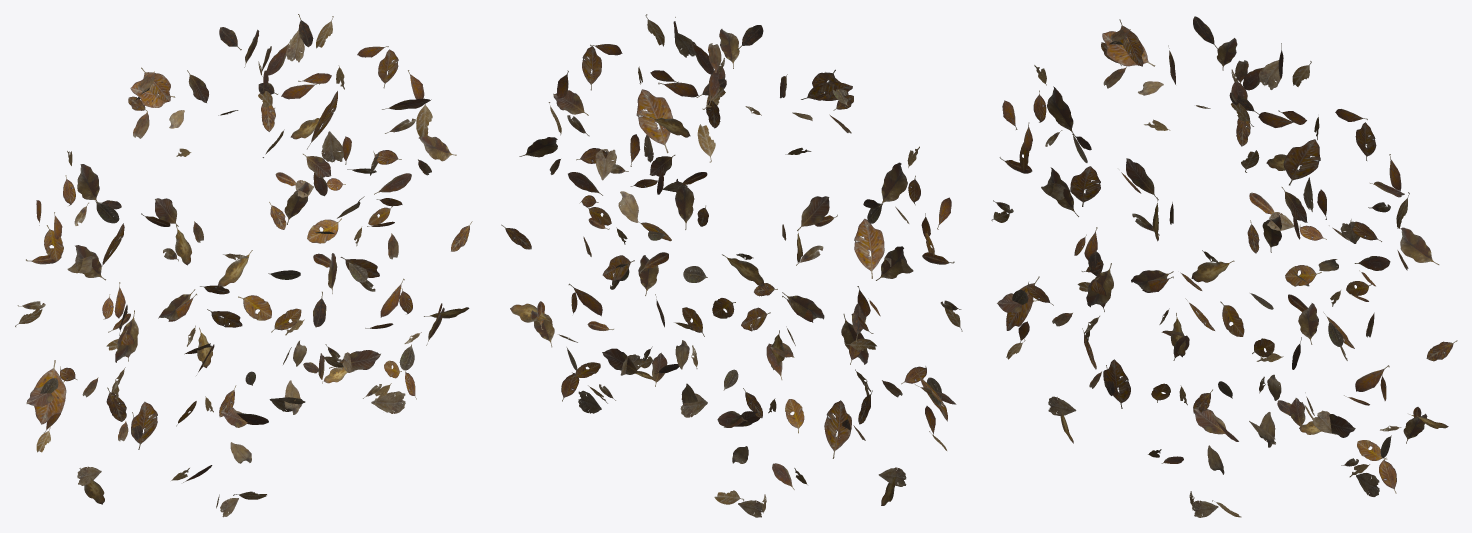
The model's file is Leaf_Pile_01_Var3_LOD2.fbx.
3 views of the same model, side by side, from view 1: azimuth 30°, elevation 25°; view 2: azimuth 150°, elevation 25°; view 3: azimuth 330°, elevation 25° (orthographic).
Parts seen in each view (by area): view 1: Var3_LOD2; view 2: Var3_LOD2; view 3: Var3_LOD2.
Part boxes in pixels (x1,y1,x2,y2): Var3_LOD2: (15,14,472,517); Var3_LOD2: (501,14,962,517); Var3_LOD2: (991,16,1457,517).
Size of the model in its own units: 161 by 165 by 8.73.
